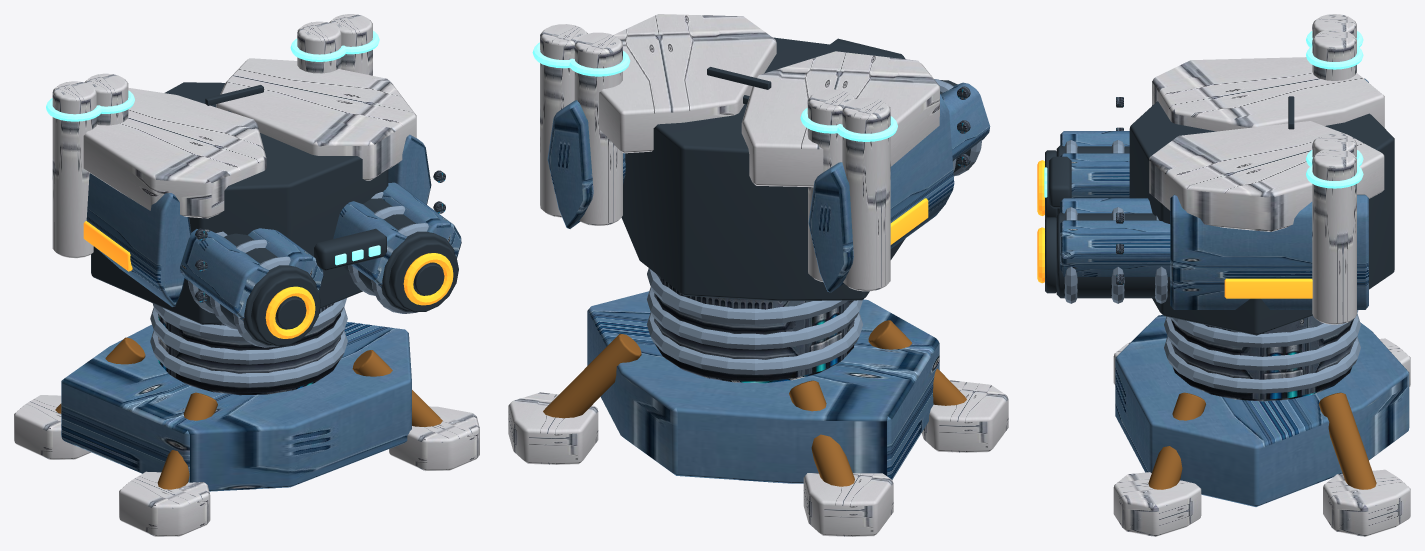
File: sector_03_3.glb
The picture shows the model from 3 angles, left to right: view 1: azimuth 30°, elevation 25°; view 2: azimuth 150°, elevation 25°; view 3: azimuth 270°, elevation 25°; orthographic projection. The views are drawn at different scales.
Parts seen in each view (by area): view 1: Turret hex anchor, Splayed planted foot, Sloped rotating gun mantle, Turntable bearing, Rotating actuator, Anchoring hydraulic, Muzzle lens ring, Coolant collar; view 2: Splayed planted foot, Turret hex anchor, Sloped rotating gun mantle, Turntable bearing, Anchoring hydraulic, Rotating actuator, Coolant collar, Muzzle lens ring; view 3: Turret hex anchor, Splayed planted foot, Sloped rotating gun mantle, Turntable bearing, Rotating actuator, Anchoring hydraulic, Muzzle lens ring, Coolant collar.
Part boxes in pixels (box(x1,y1,x2,y2)): Turret hex anchor: box(61, 134, 461, 491); Splayed planted foot: box(14, 14, 479, 536); Sloped rotating gun mantle: box(91, 82, 458, 345); Turntable bearing: box(150, 192, 428, 387); Rotating actuator: box(158, 170, 445, 395); Anchoring hydraulic: box(55, 337, 442, 489); Muzzle lens ring: box(83, 221, 453, 338); Coolant collar: box(46, 31, 380, 265); Splayed planted foot: box(508, 14, 1008, 536); Turret hex anchor: box(547, 82, 990, 483); Sloped rotating gun mantle: box(621, 37, 970, 301); Turntable bearing: box(647, 79, 981, 374); Anchoring hydraulic: box(543, 320, 966, 486); Rotating actuator: box(654, 86, 970, 383); Coolant collar: box(532, 42, 897, 141); Muzzle lens ring: box(890, 198, 928, 244); Turret hex anchor: box(1060, 78, 1409, 506); Splayed planted foot: box(1113, 14, 1410, 536); Sloped rotating gun mantle: box(1045, 96, 1394, 335); Turntable bearing: box(1064, 140, 1360, 393); Rotating actuator: box(1116, 97, 1353, 401); Anchoring hydraulic: box(1148, 392, 1376, 489); Muzzle lens ring: box(1037, 160, 1312, 298); Coolant collar: box(1044, 31, 1363, 197).
Bounding box in the file's own units: 1.1 × 1.12 × 1.03.
Materials: 8 (3 with a texture image).
